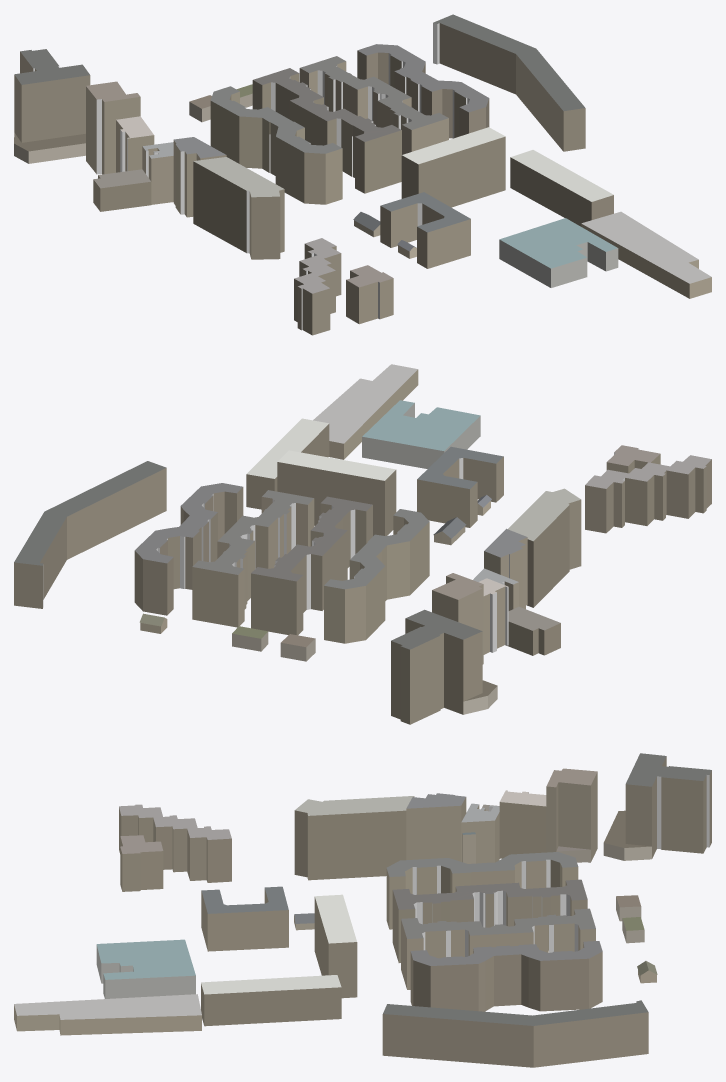
3 views of the same model, one above another, from view 1: azimuth 30°, elevation 25°; view 2: azimuth 150°, elevation 25°; view 3: azimuth 270°, elevation 25° (orthographic). The views are drawn at different scales.
Parts seen in each view (by area): view 1: tuile; view 2: tuile; view 3: tuile.
Boxes of the visible parts, x1=… form: tuile: x1=14, y1=14, x2=711, y2=335; tuile: x1=14, y1=364, x2=711, y2=724; tuile: x1=14, y1=753, x2=711, y2=1067.
Bounding box in the file's own units: 255 × 43.69 × 319.
